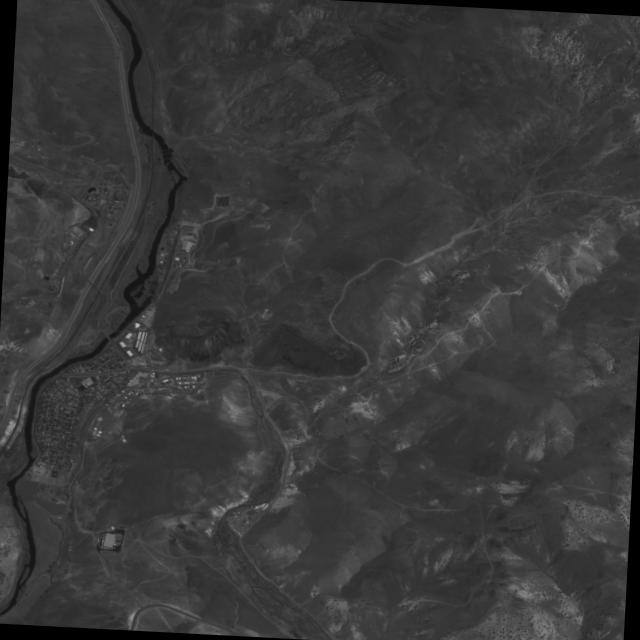storage-tank: (110, 526, 114, 531), (121, 439, 125, 442), (121, 436, 123, 438)
